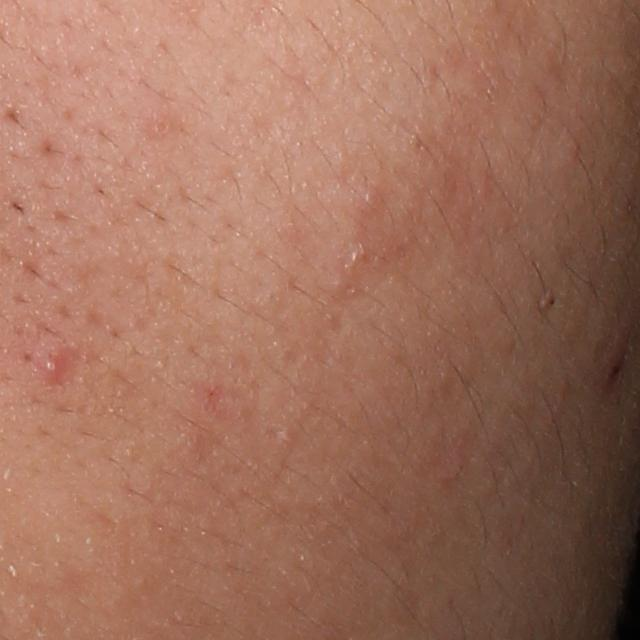comedo: (360, 181, 385, 208), (154, 113, 176, 134)
